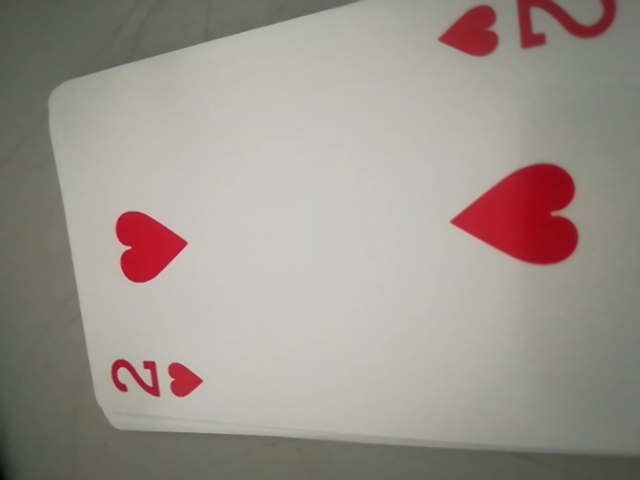hx 2: (432, 0, 636, 72)
